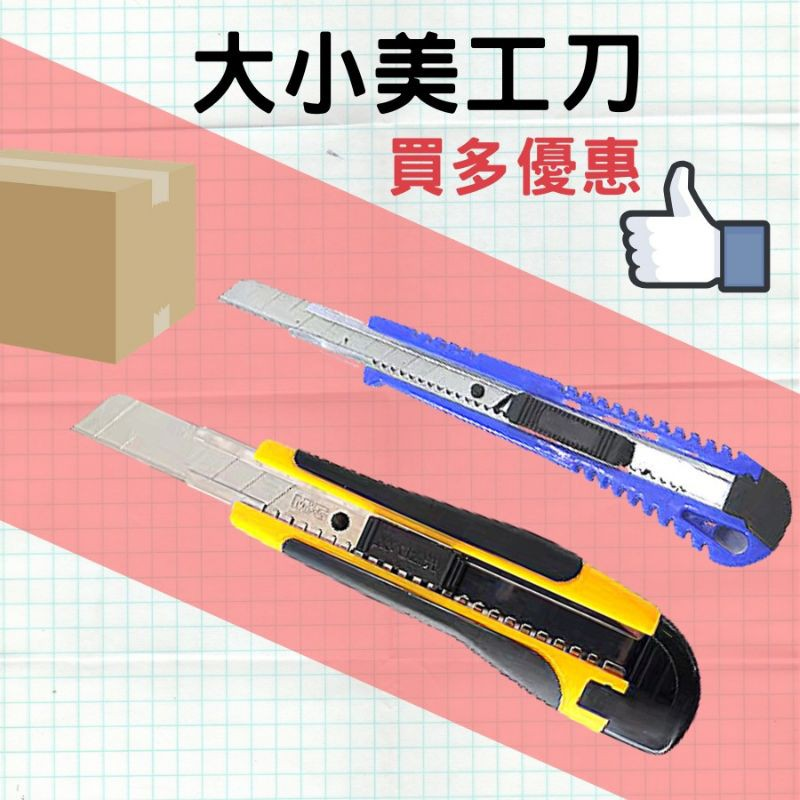cutter: (72, 390, 702, 755), (213, 276, 792, 569)
